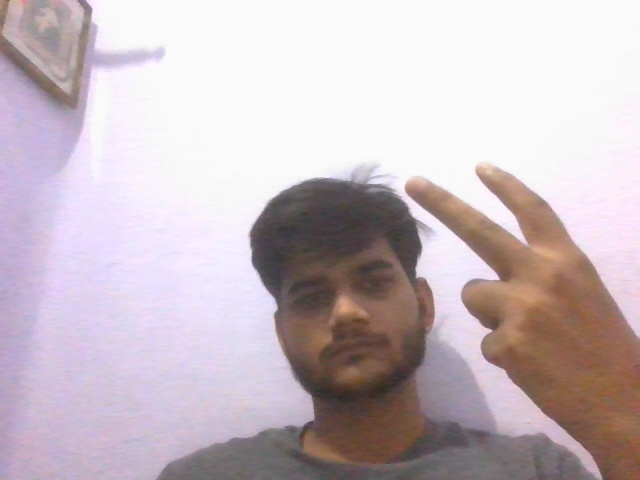yes: (393, 145, 640, 480)
